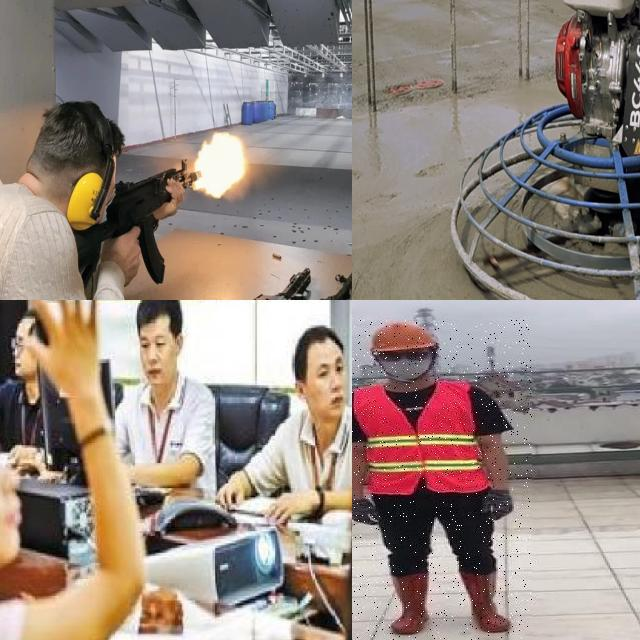Ear-protection: (25, 97, 135, 247)
boots: (457, 572, 511, 635), (384, 575, 438, 635)
face_nomask: (0, 422, 26, 569), (306, 356, 345, 414), (144, 327, 170, 382)
hand_noglove: (15, 300, 98, 386), (264, 484, 306, 526), (214, 472, 242, 514), (5, 436, 32, 473)
head_helmet: (364, 321, 440, 354)
head_nohelmet: (287, 320, 352, 357), (127, 300, 186, 325)
person: (352, 320, 532, 640), (0, 356, 147, 640), (235, 315, 352, 520), (120, 300, 220, 503)
vest: (352, 382, 488, 494)
